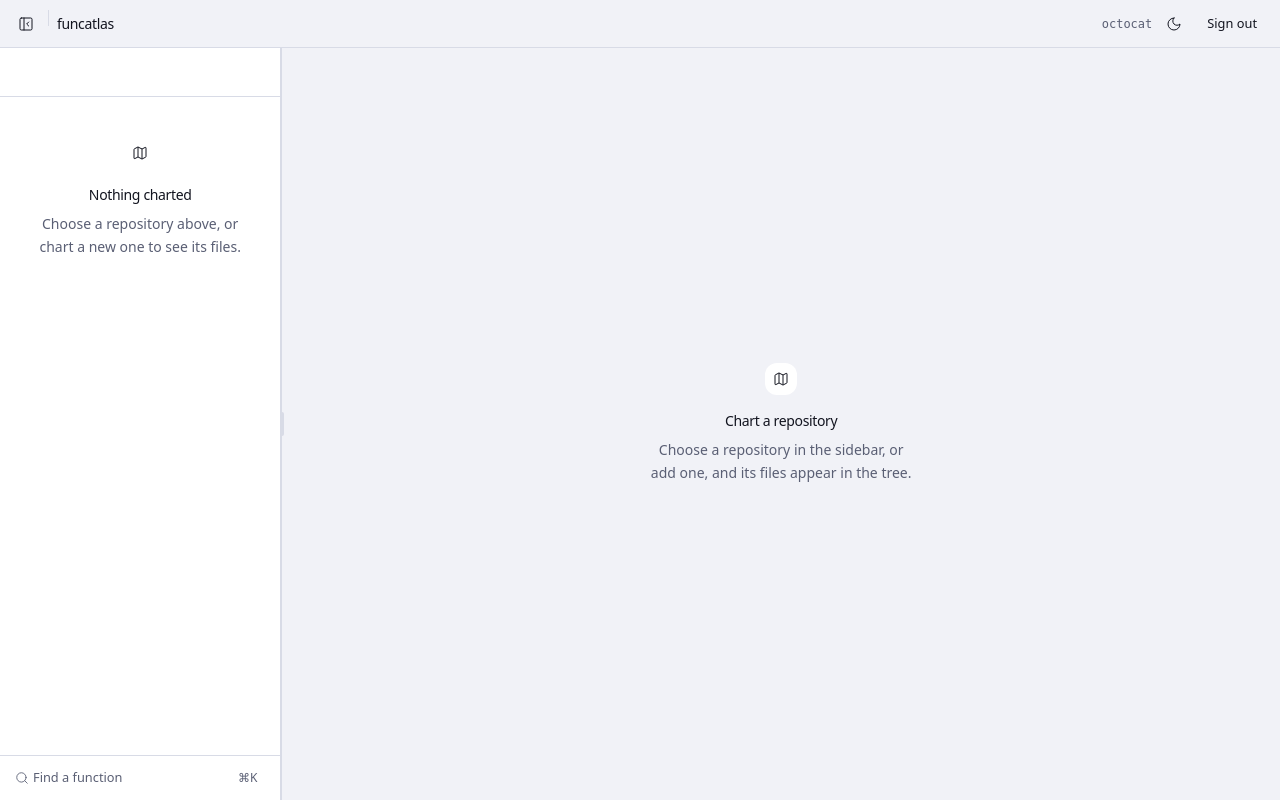
Scenario: signing in and out › returns to the sign-in card after signing out
Click the button "Sign out".
click(1232, 24)  # box [1196,10,1268,38]
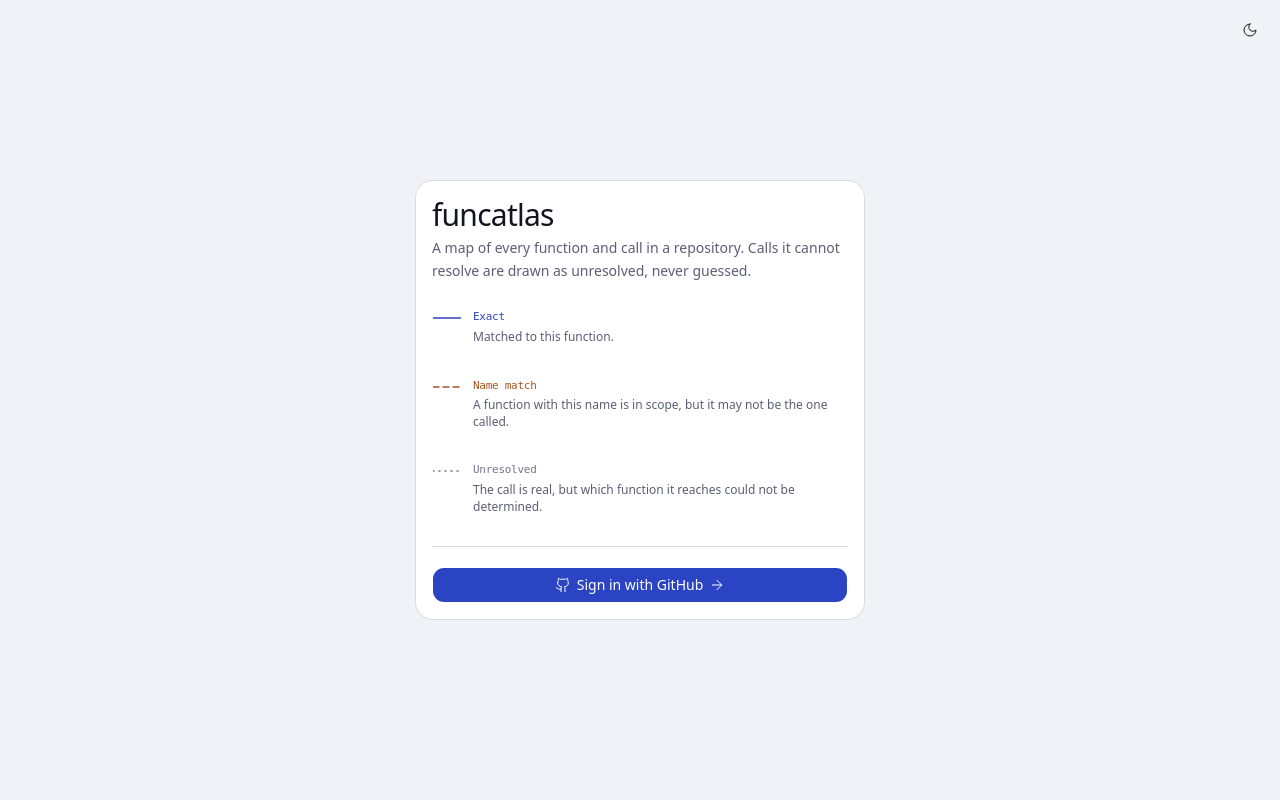
expect the link "Sign in with GitHub" is shown: met, box [432,567,848,603]
